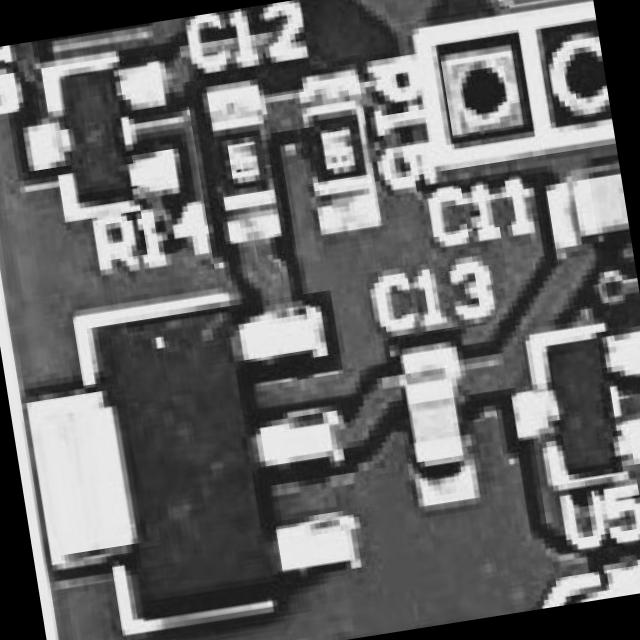IC: (42, 287, 341, 640)
capacitor: (399, 366, 469, 476)
resistor: (302, 91, 376, 208), (212, 102, 280, 216)
transistor: (39, 47, 170, 216), (516, 318, 640, 489)
